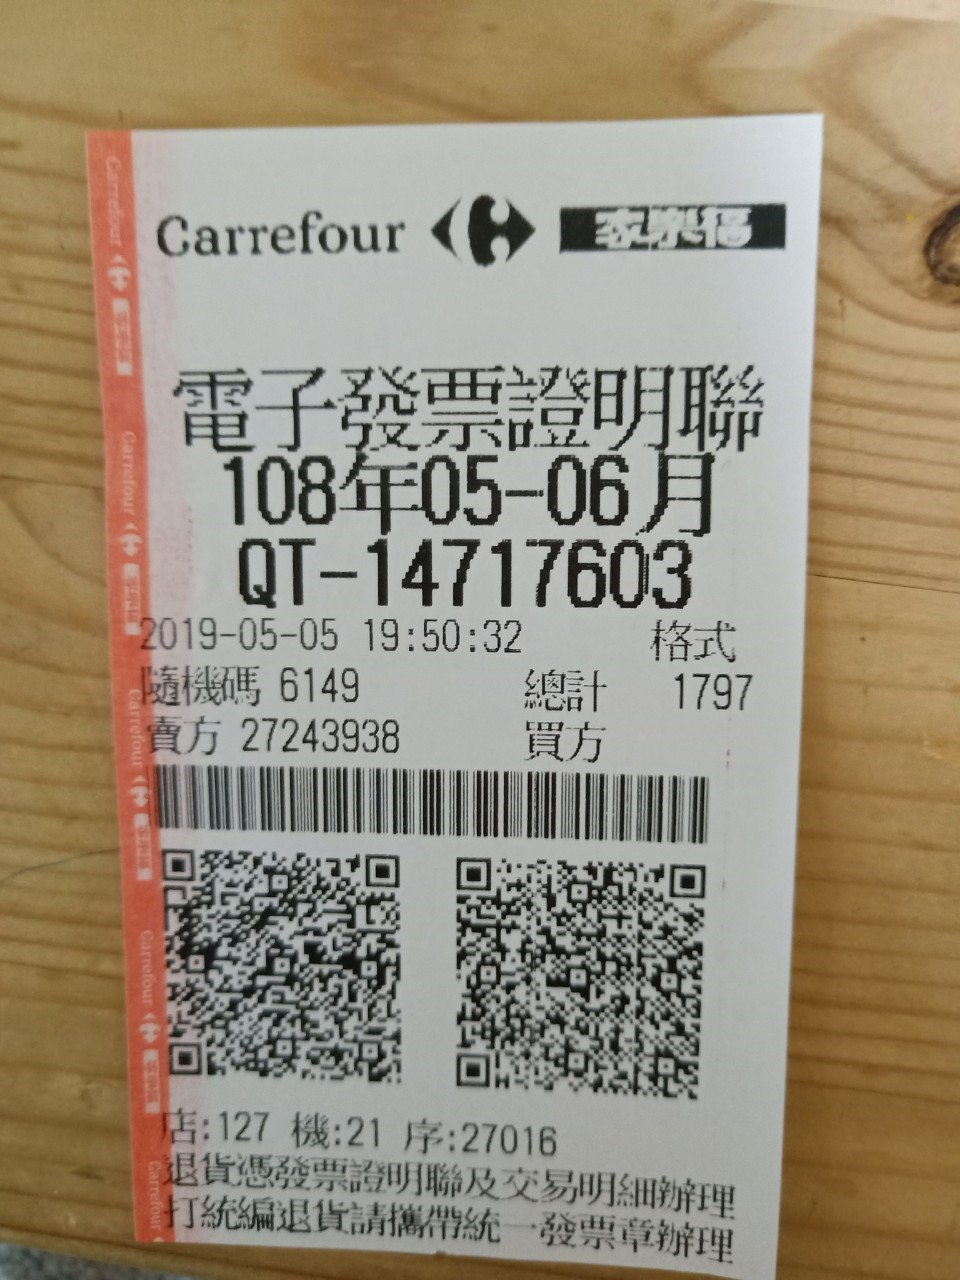Date_New: (224, 452, 718, 537)
Number_New: (366, 533, 693, 612)
